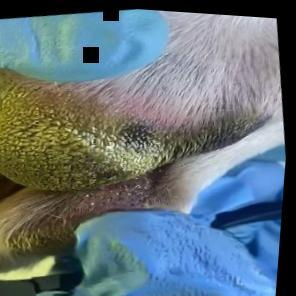keratosis: (0, 36, 190, 208)
